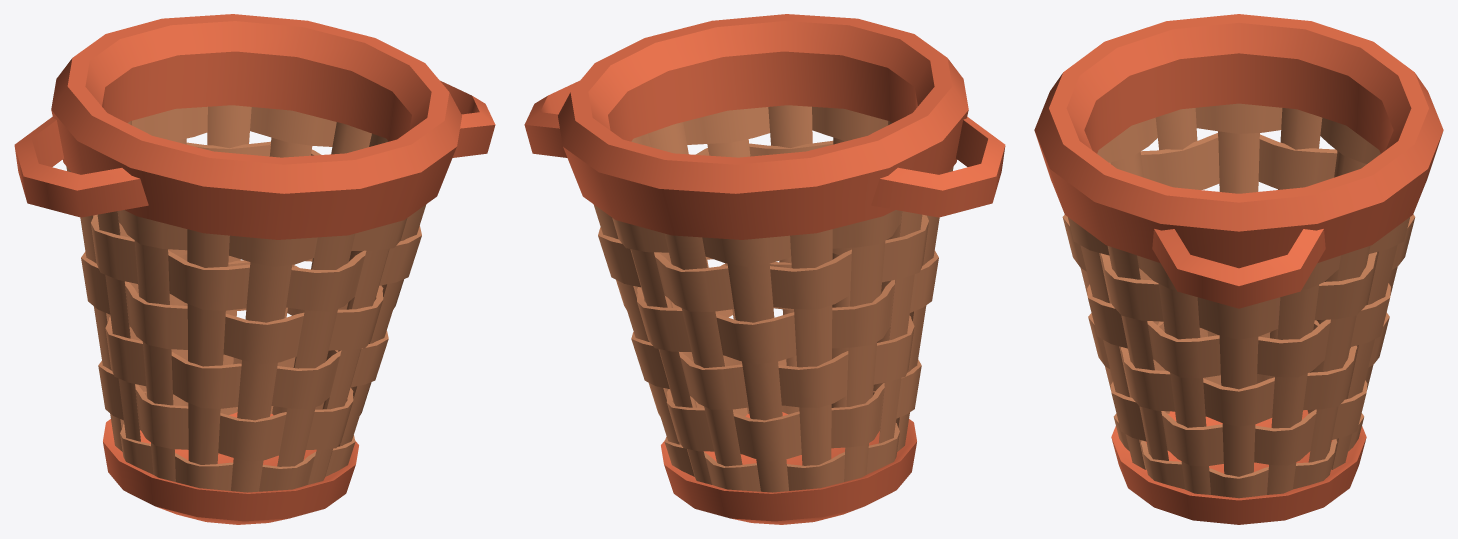
Rendered from fruit_catcher.glb.
3 views of the same model, side by side, from view 1: azimuth 30°, elevation 25°; view 2: azimuth 150°, elevation 25°; view 3: azimuth 270°, elevation 25° (orthographic).
Parts seen in each view (by area): view 1: basket_GEO; view 2: basket_GEO; view 3: basket_GEO.
Boxes of the visible parts, x1=… form: basket_GEO: x1=14, y1=14, x2=495, y2=524; basket_GEO: x1=524, y1=14, x2=1005, y2=524; basket_GEO: x1=1034, y1=14, x2=1443, y2=524.
Size of what is drawn, in the model's own units: 1.36 by 1.17 by 1.06.
1 material, 1 textured.
